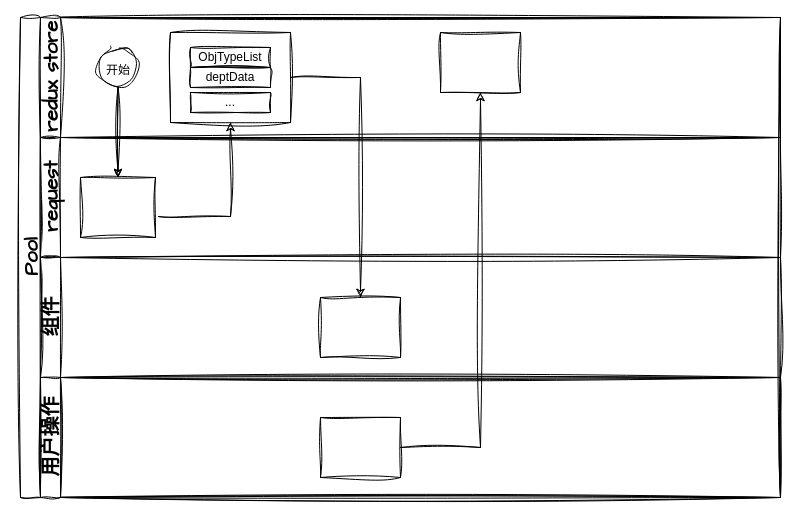
This 798x515 diagram has some shape labels left out. Here are the shapes that lost their labels. From the top down, the centre of each, then its label:
At [118,207]: "请求 方案数据".
At [360,327]: "渲染维度".
At [360,447]: "部门维度删|改".
